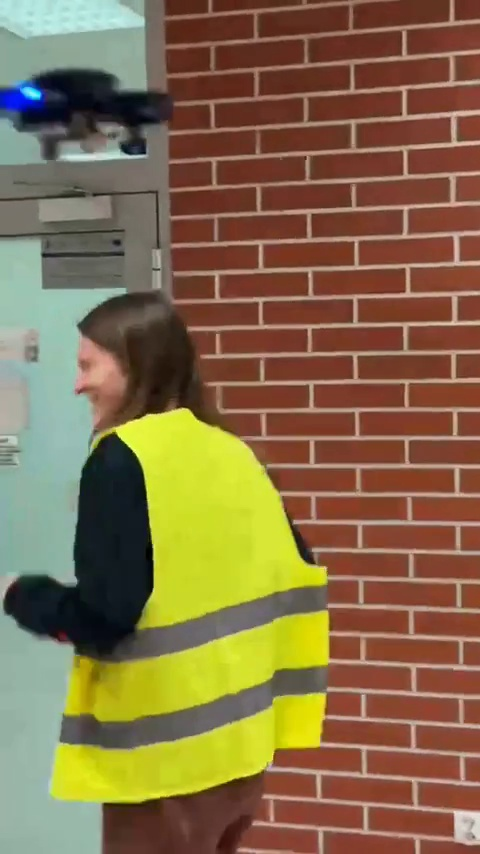drone: (0, 67, 177, 169)
vest: (11, 294, 337, 854)
